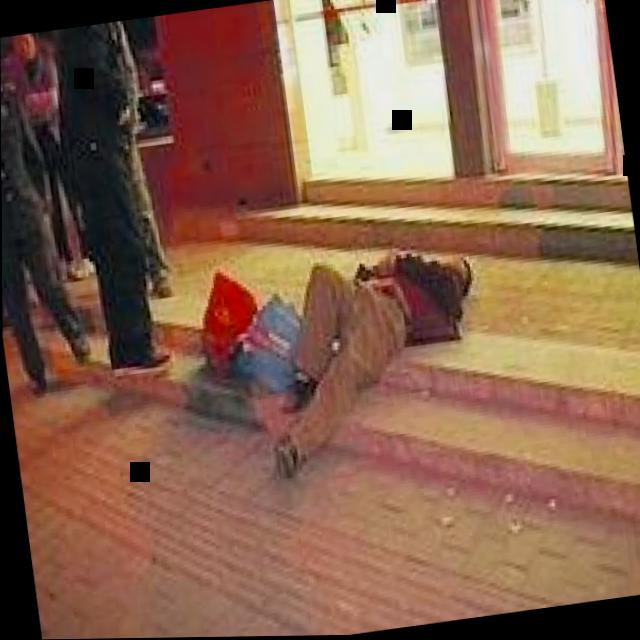Fall-Detected: (222, 213, 506, 483)
